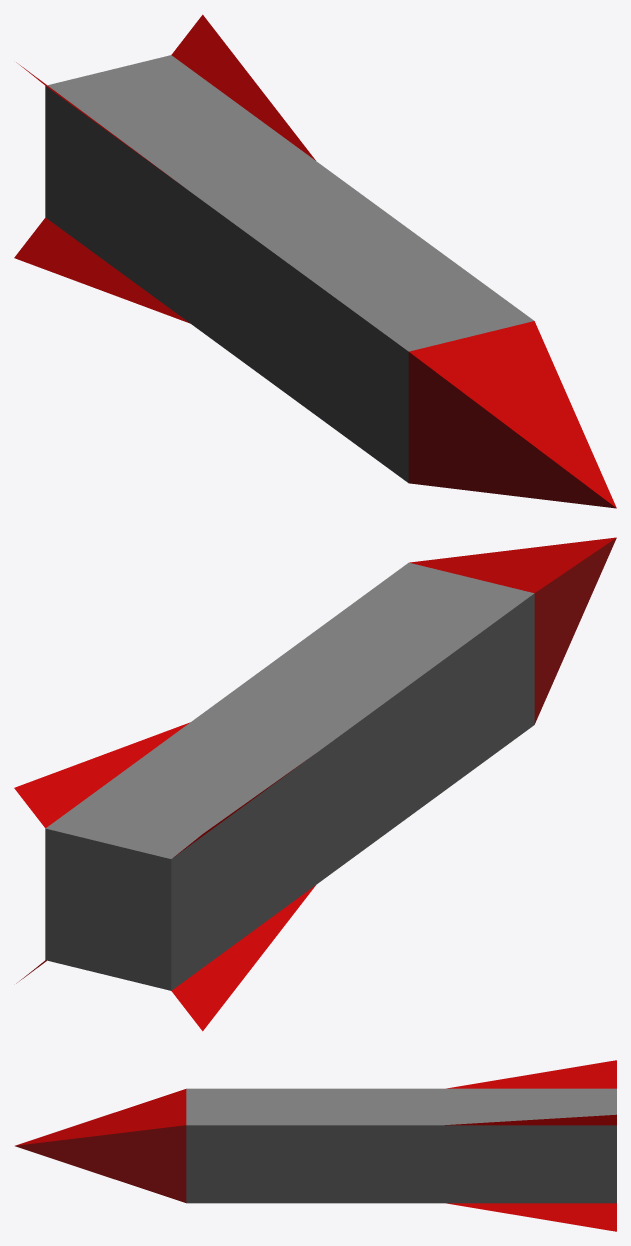
The model's file is missile.obj.
3 renders of one model, top to bottom at view 1: azimuth 30°, elevation 25°; view 2: azimuth 150°, elevation 25°; view 3: azimuth 270°, elevation 25°, orthographic. The views are drawn at different scales.
Size of the model in its own units: 24 by 24 by 112.
